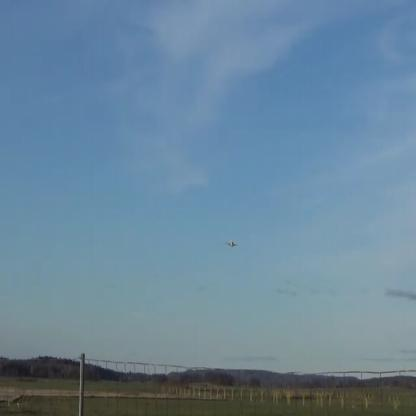CIV_Plane: (225, 240, 238, 248)
